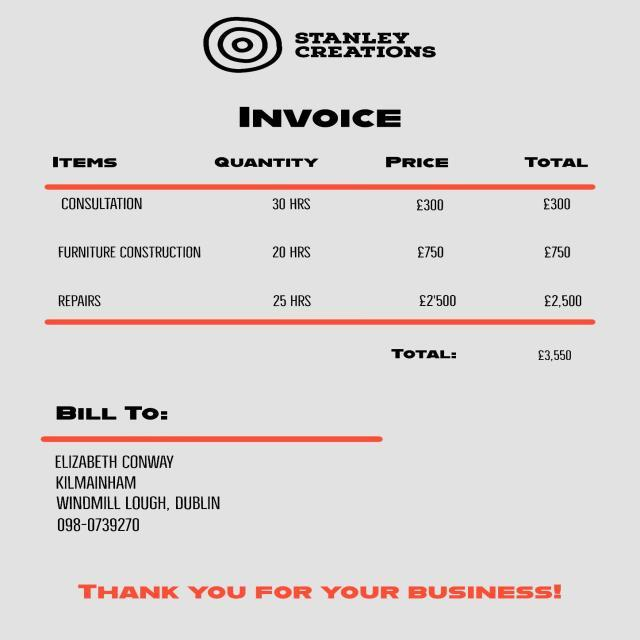ROI: (36, 140, 602, 316), (38, 394, 248, 546), (66, 574, 574, 606), (233, 92, 429, 134), (280, 18, 460, 60), (385, 334, 592, 370)
